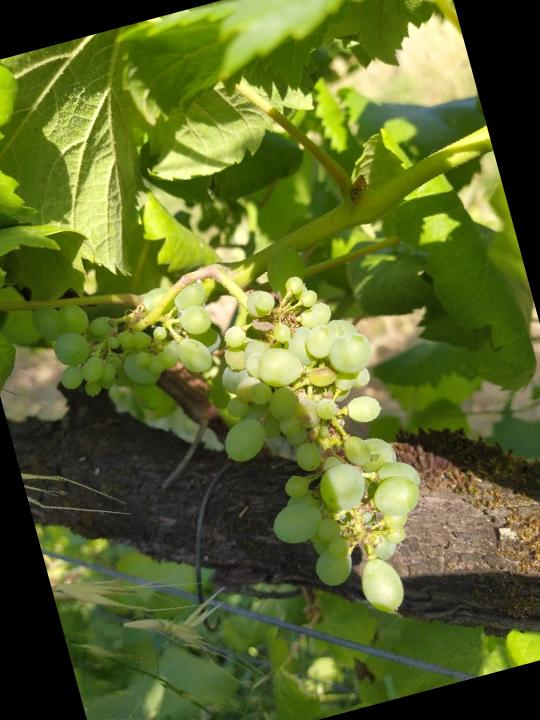grape: (21, 219, 458, 689)
